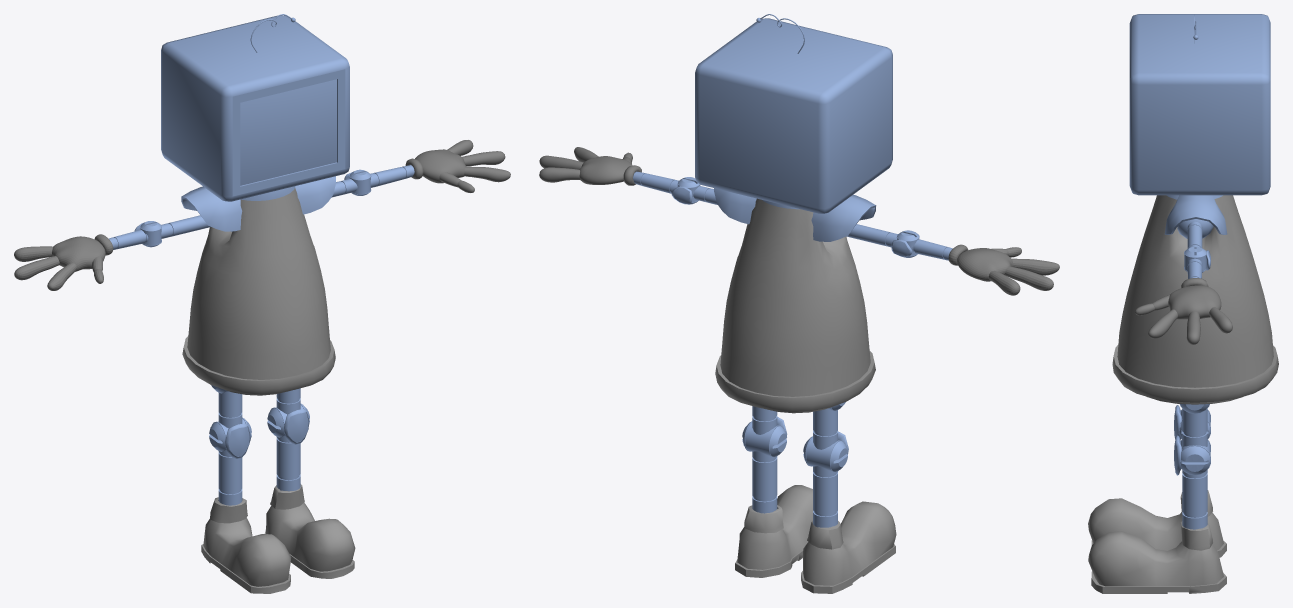
File: TaMa.fbx
3 renders of one model, left to right at view 1: azimuth 30°, elevation 25°; view 2: azimuth 150°, elevation 25°; view 3: azimuth 270°, elevation 25°, orthographic. The views are drawn at different scales.
Visible parts, largest first — view 1: TaMa; view 2: TaMa; view 3: TaMa.
Part boxes in pixels (box(x1,y1,x2,y2)): TaMa: box(14, 14, 510, 593); TaMa: box(539, 14, 1059, 593); TaMa: box(1088, 14, 1278, 593).
Size of the model in its own units: 52.12 by 53.73 by 16.71.
